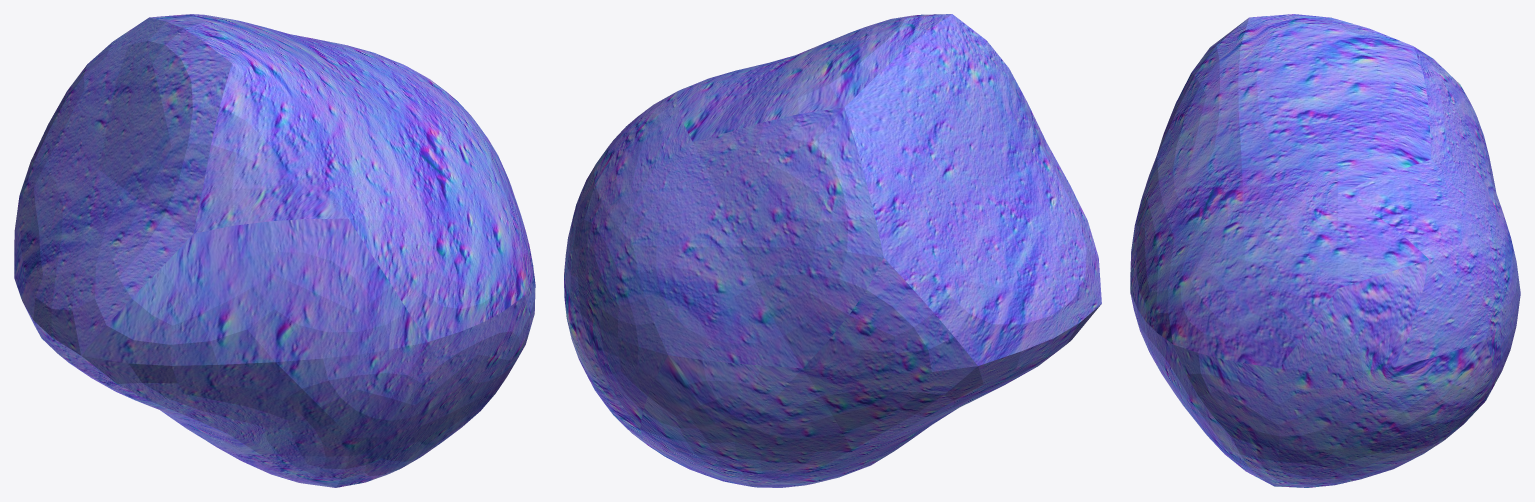
The model's file is smallasteroid13_LOD2.fbx.
3 views of the same model, side by side, from view 1: azimuth 30°, elevation 25°; view 2: azimuth 150°, elevation 25°; view 3: azimuth 270°, elevation 25° (orthographic). The views are drawn at different scales.
Parts seen in each view (by area): view 1: Icosphere; view 2: Icosphere; view 3: Icosphere.
Boxes of the visible parts, <box> form: Icosphere: <box>14,14,535,487</box>; Icosphere: <box>564,14,1101,487</box>; Icosphere: <box>1130,14,1520,487</box>.
Size of the model in its own units: 236 by 224 by 200.
